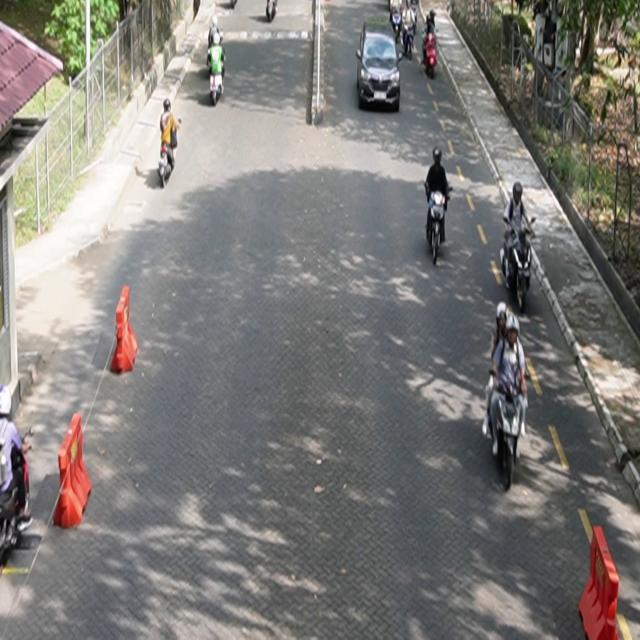car: (357, 20, 404, 113)
